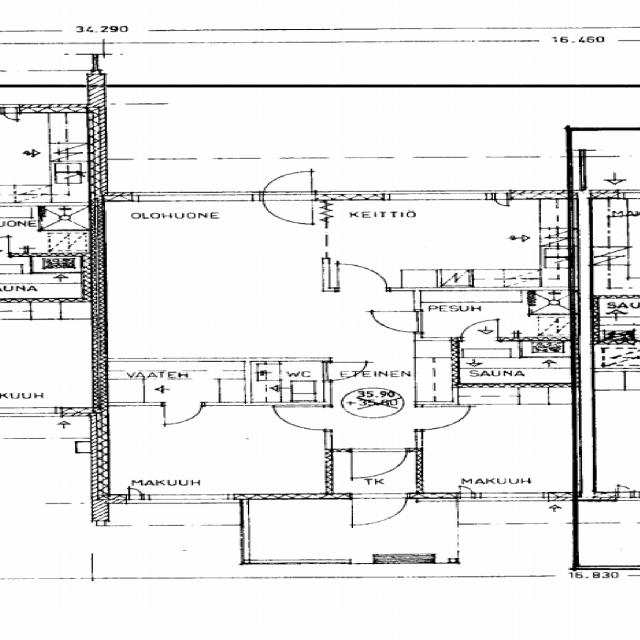door: (353, 493, 406, 528), (354, 448, 407, 478), (264, 166, 312, 199), (264, 191, 312, 223), (338, 264, 387, 290), (278, 407, 331, 430), (414, 407, 467, 429), (371, 311, 420, 332), (164, 401, 203, 423), (325, 363, 368, 381), (462, 320, 498, 340)
